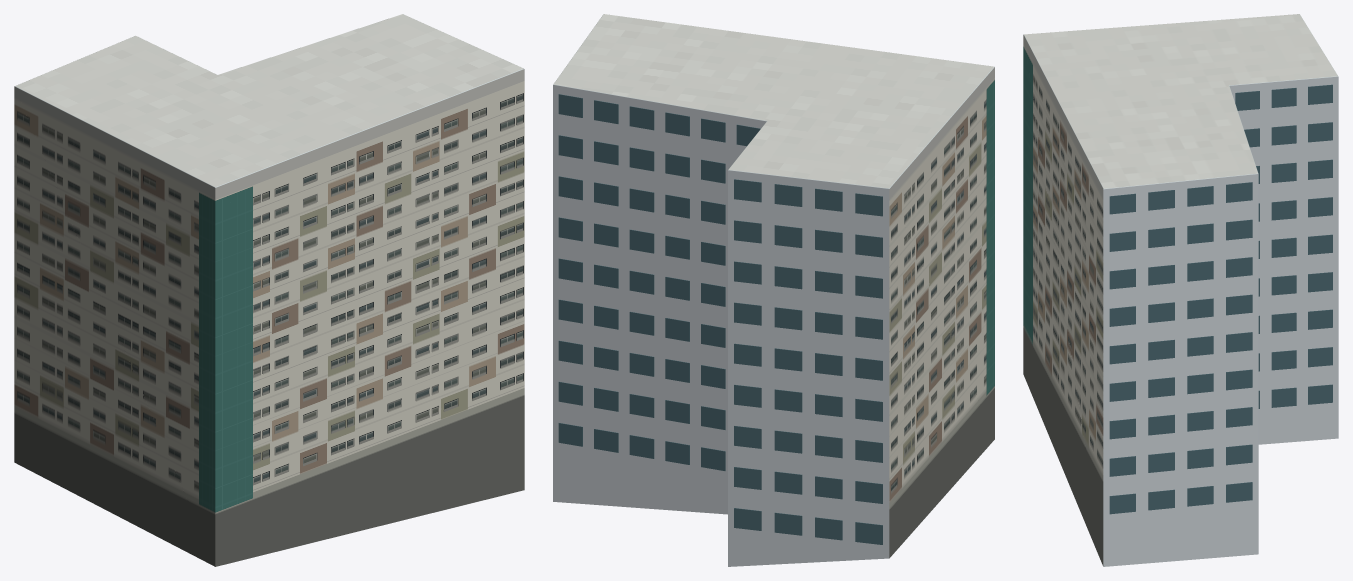
Rendered from intact.glb.
3 renders of one model, left to right at view 1: azimuth 30°, elevation 25°; view 2: azimuth 150°, elevation 25°; view 3: azimuth 270°, elevation 25°, orthographic. The views are drawn at different scales.
Parts seen in each view (by area): view 1: SM_nuri-west_Intact_00; view 2: SM_nuri-west_Intact_00, SM_nuri-west_Intact_01; view 3: SM_nuri-west_Intact_00, SM_nuri-west_Intact_01.
Part boxes in pixels (bbox=[...]): SM_nuri-west_Intact_00: bbox=[14, 14, 524, 566]; SM_nuri-west_Intact_00: bbox=[553, 14, 994, 566]; SM_nuri-west_Intact_01: bbox=[558, 94, 882, 544]; SM_nuri-west_Intact_00: bbox=[1023, 14, 1338, 566]; SM_nuri-west_Intact_01: bbox=[1109, 84, 1332, 514].
Bounding box in the file's own units: 2.2 × 2.23 × 1.67.
6 materials, 3 textured.
